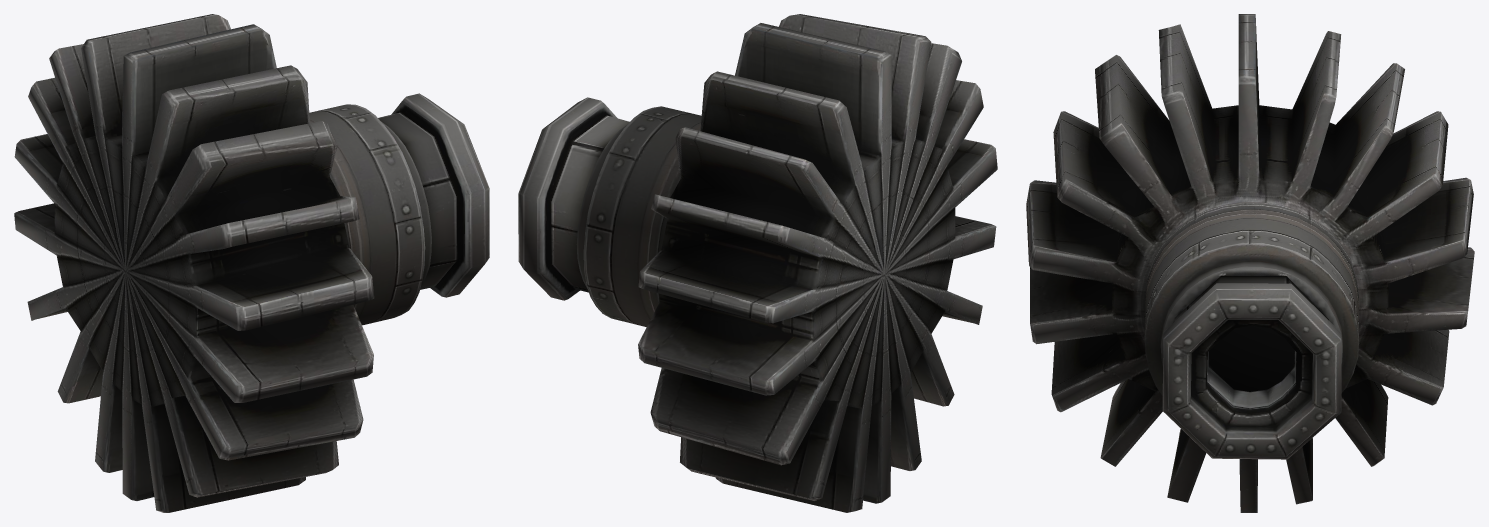
Rendered from cold-iron-v2-heatsink-b-radial.glb.
3 renders of one model, left to right at view 1: azimuth 30°, elevation 25°; view 2: azimuth 150°, elevation 25°; view 3: azimuth 270°, elevation 25°, orthographic. The views are drawn at different scales.
Parts seen in each view (by area): view 1: tripo_node_a9119552-0c2f-431b-9512-ca4f3252cd5f; view 2: tripo_node_a9119552-0c2f-431b-9512-ca4f3252cd5f; view 3: tripo_node_a9119552-0c2f-431b-9512-ca4f3252cd5f.
Part boxes in pixels (x1,y1,x2,y2): tripo_node_a9119552-0c2f-431b-9512-ca4f3252cd5f: (14, 14, 489, 512); tripo_node_a9119552-0c2f-431b-9512-ca4f3252cd5f: (518, 14, 997, 512); tripo_node_a9119552-0c2f-431b-9512-ca4f3252cd5f: (1026, 14, 1474, 512).
Bounding box in the file's own units: 0.7598 × 0.998 × 0.9316.
Materials: 1 (1 with a texture image).
